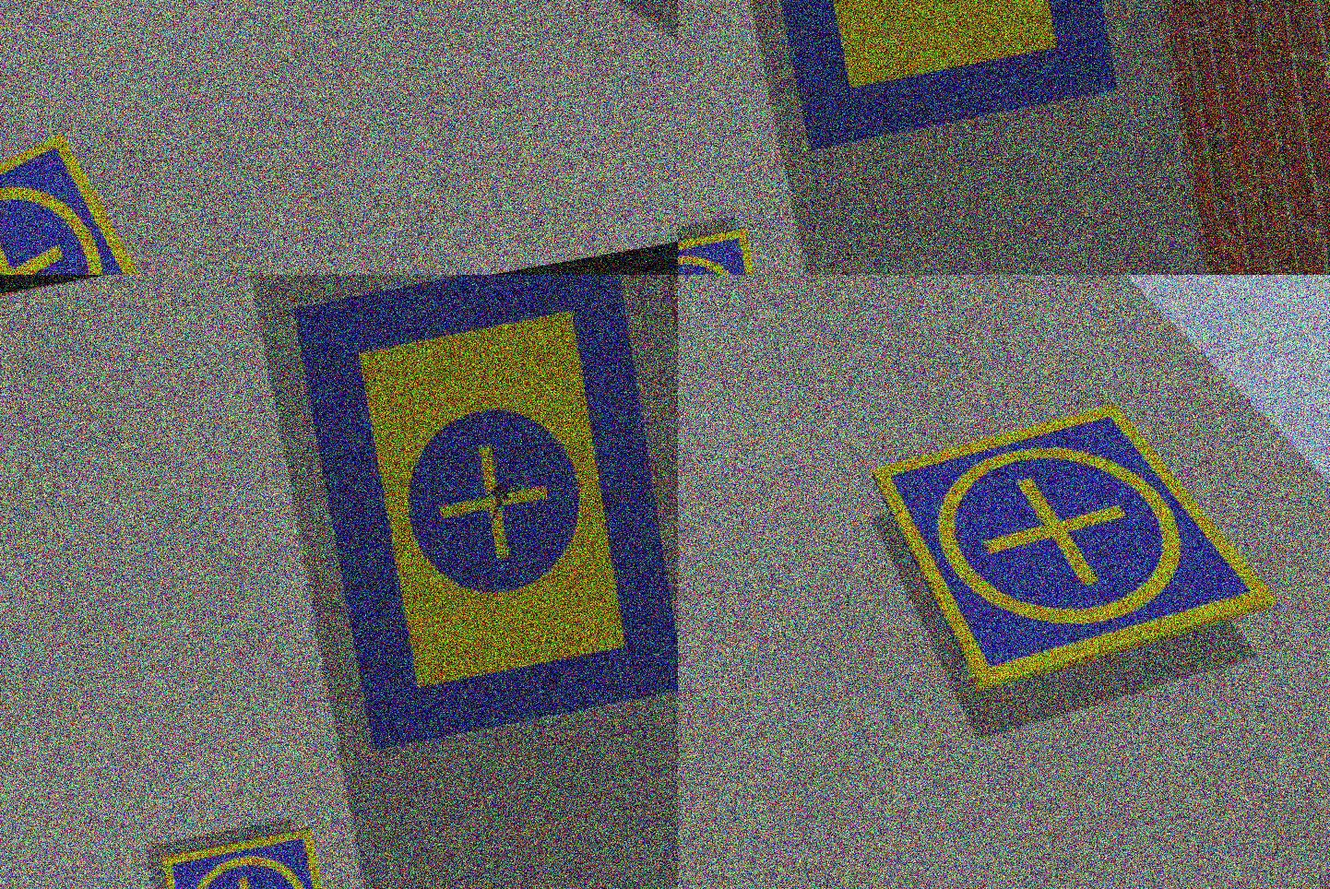large_base: (290, 275, 678, 750), (719, 1, 1118, 152)
small_base: (871, 385, 1287, 713), (1, 119, 176, 275), (157, 824, 338, 889)
